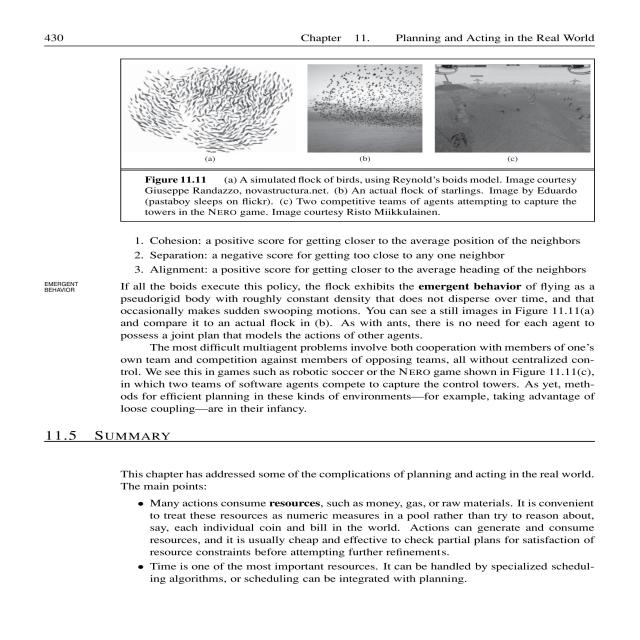diagram: (119, 60, 594, 223)
